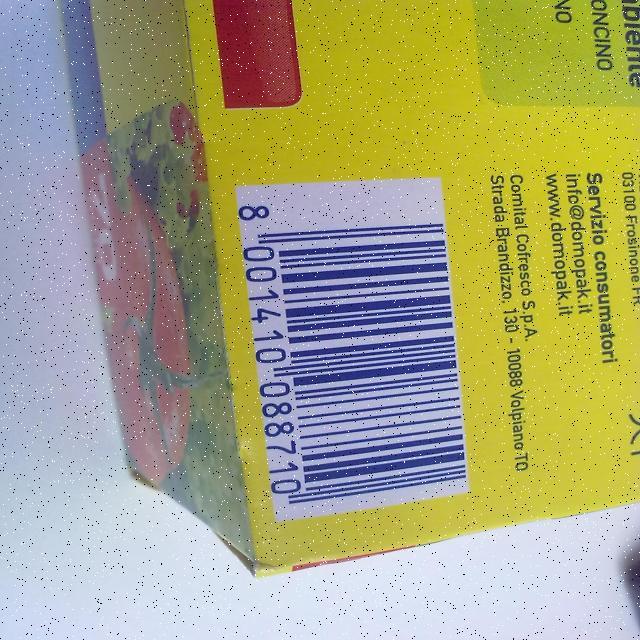barcode: (237, 179, 468, 521)
